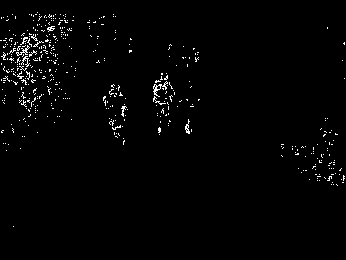person: (100, 84, 129, 147), (151, 68, 175, 136)
